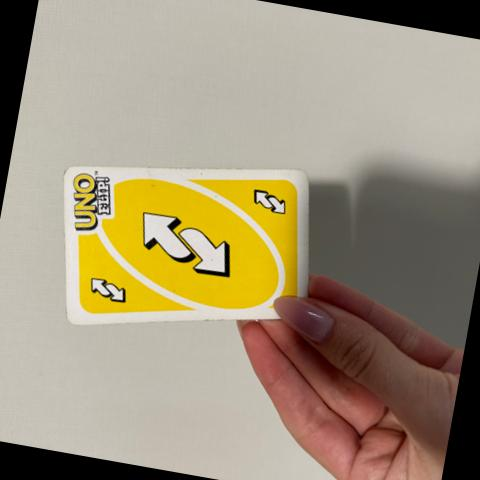lyellowrevers-20: (72, 255, 144, 318)
